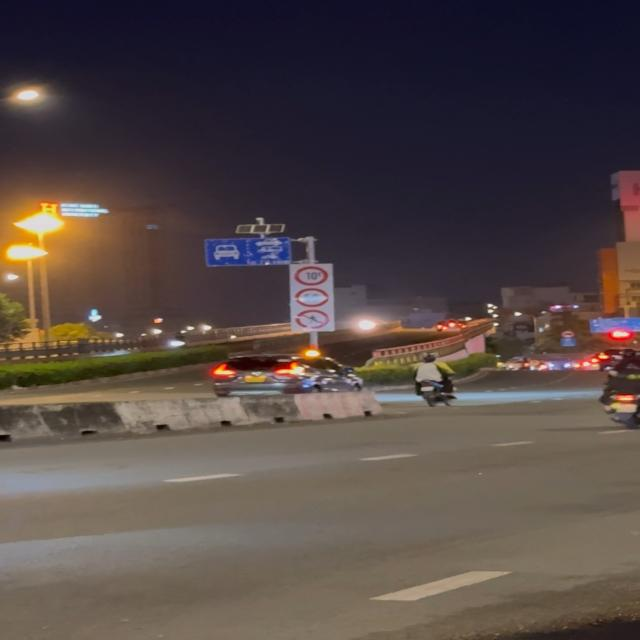Bien bao cam nguoi di bo: (294, 309, 335, 330)
Bien bao toc do toi da cho phep: (294, 288, 330, 308)
